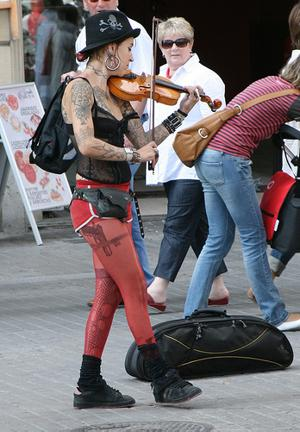person: (33, 12, 205, 410)
